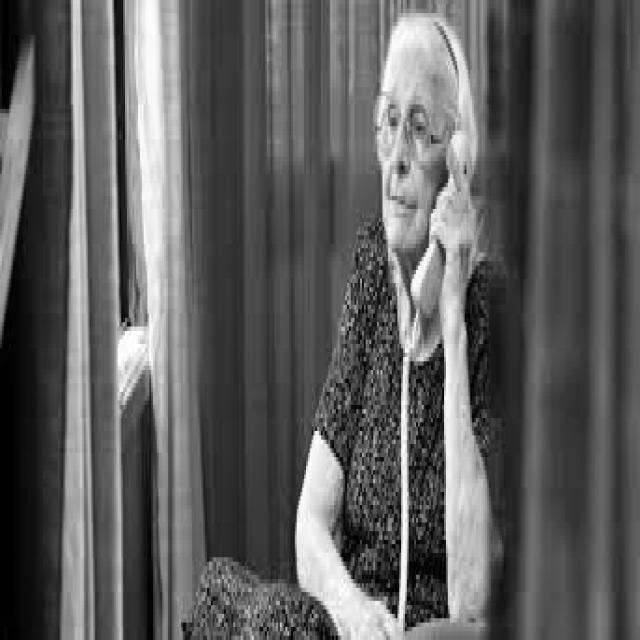phone: (403, 96, 480, 348)
